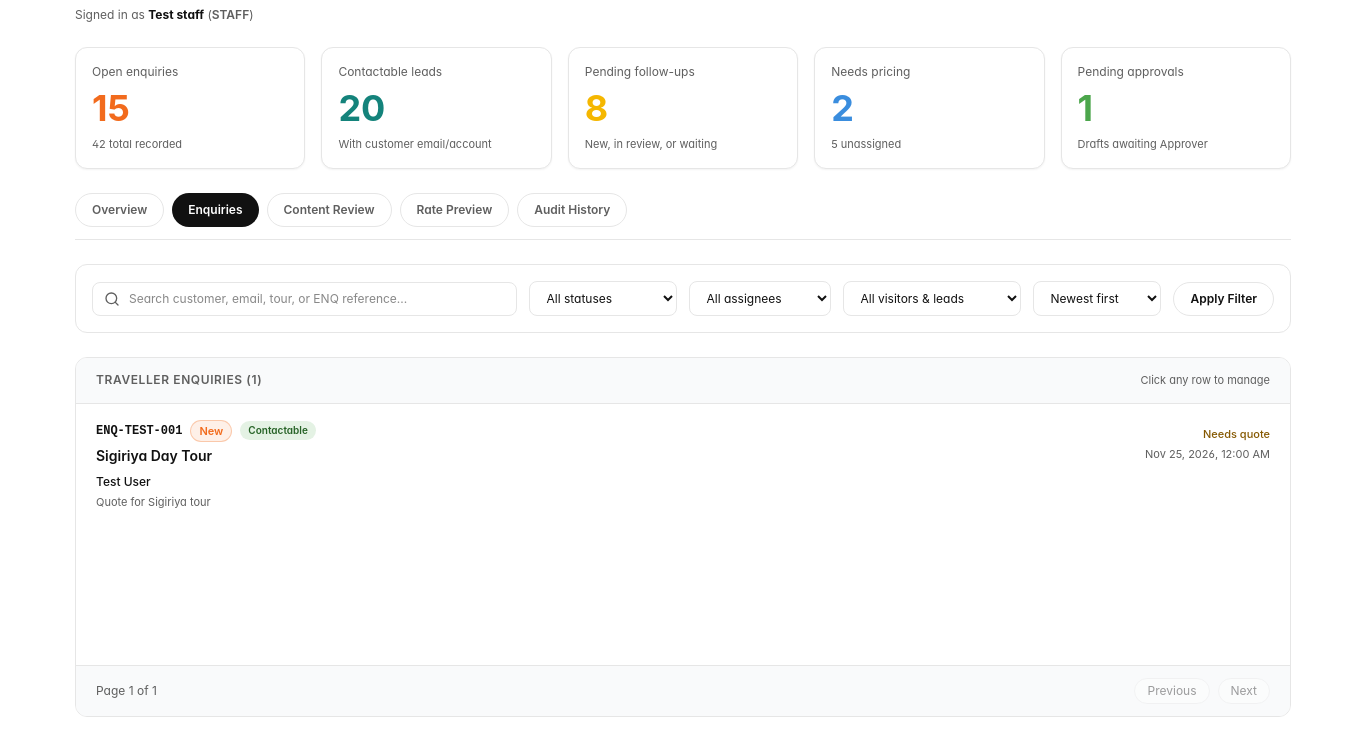
Scenario: StaffConsole Authenticated View › shows enquiry list, opens detail drawer with finance & quote history, and saves follow-up
(page scrolled)
Expected: the text "Test User" is shown, [96,474,151,490]
Click the text "ENQ-TEST-001" at (139, 431), box [96,423,182,439]
(page scrolled)
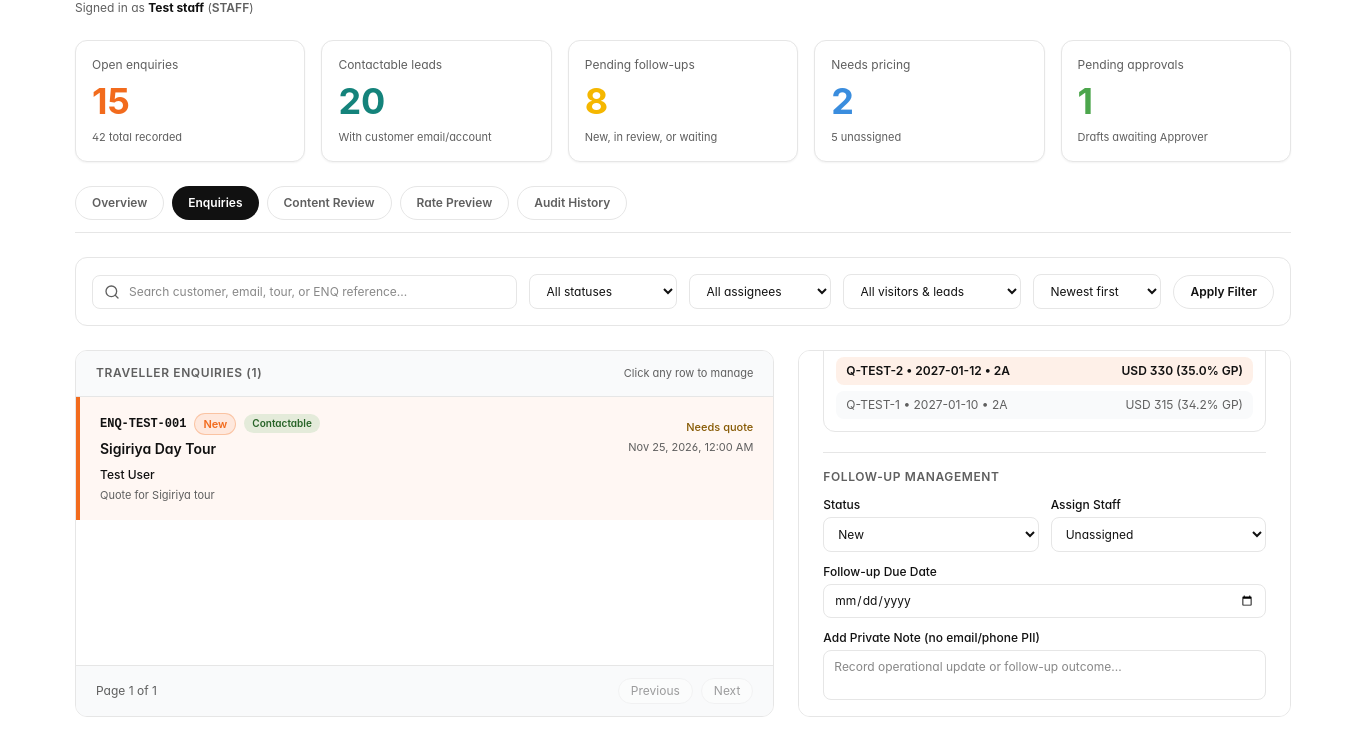
Select "In Review" in the dropdown labelled "Status" at (931, 534), box [823,517,1039,552]
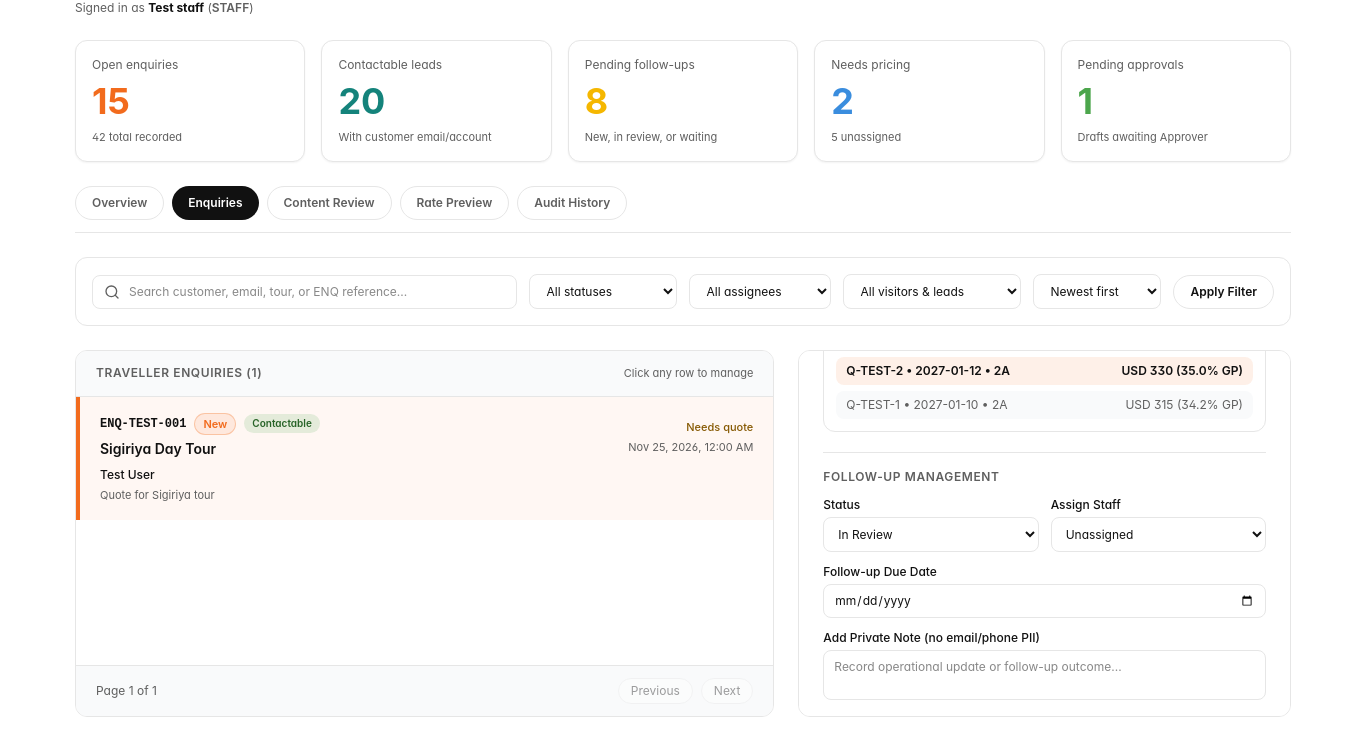
Type "Followed up via call" into the text box labelled "Add Private Note (no email/phone PII)" at (1045, 675), box [823,650,1266,700]
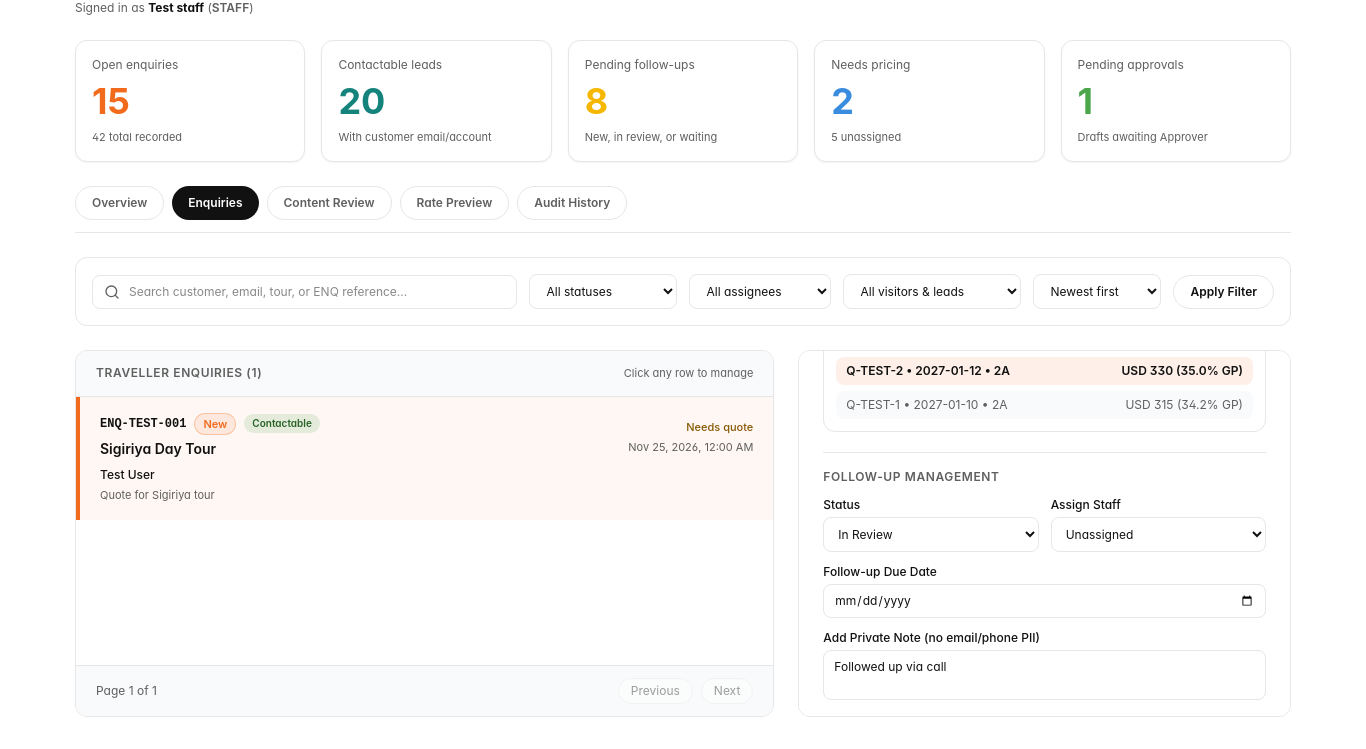
Submit the form named "Save Follow-Up Update", box [823,452,1266,748]
(page scrolled)
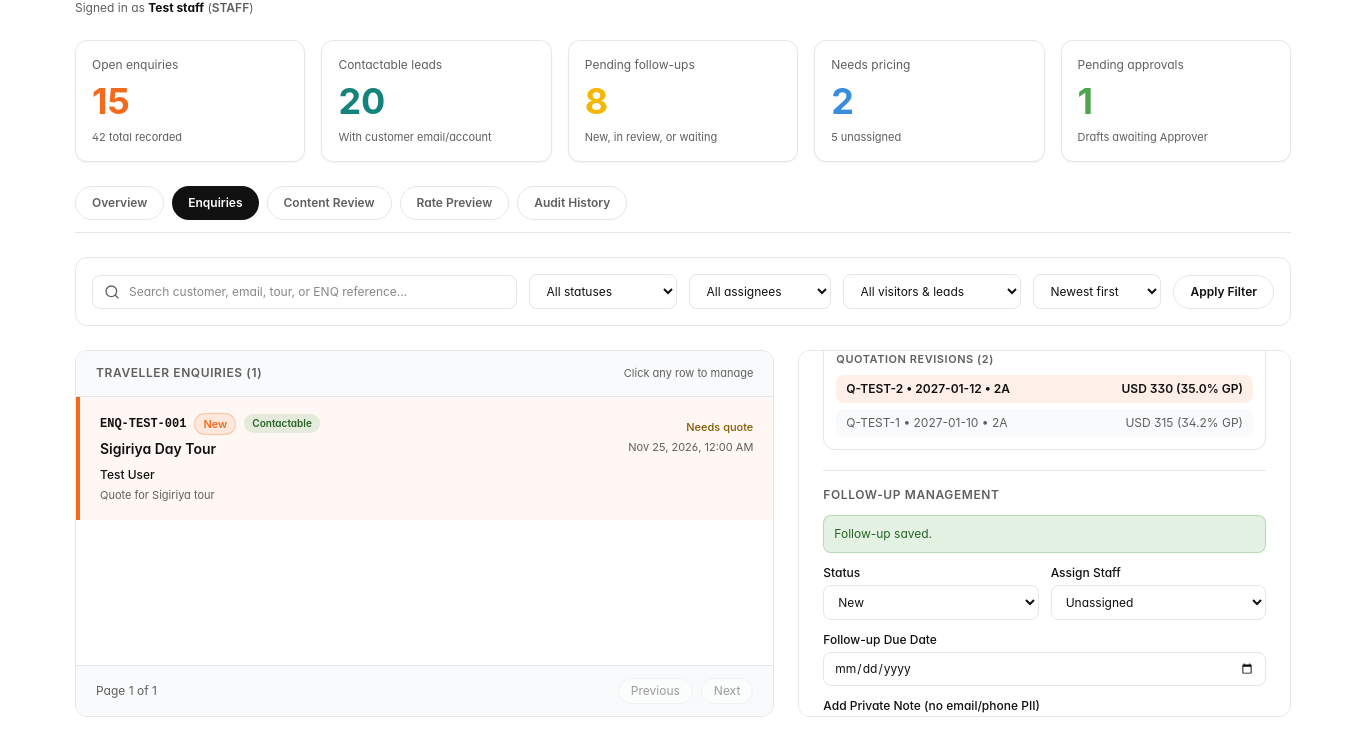
Expected: the text "Follow-up saved." is shown, [823,515,1266,553]
